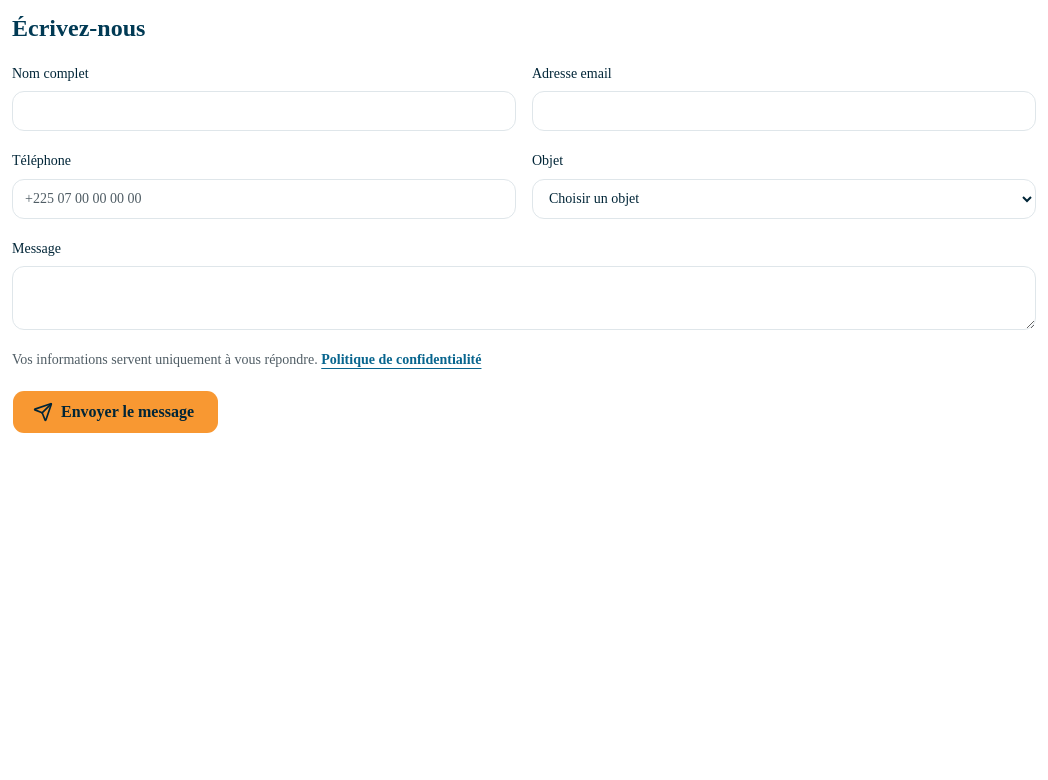
ContactForm › erreurs de Django affichées sous les champs
The width and height of the screenshot is (1048, 780).
Type "Awa Koné" into the field labelled "Nom complet" at (264, 111), box x1=12 y1=91 x2=516 y2=131
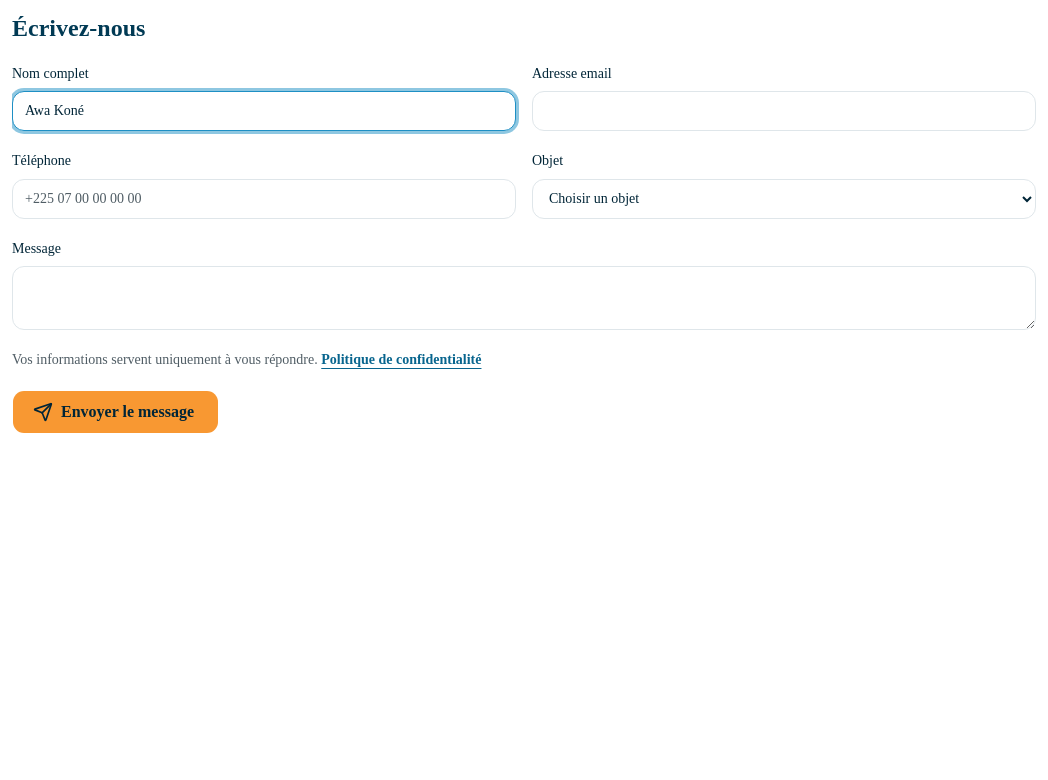
Type "awa@example.com" into the field labelled "Adresse email" at (784, 111), box x1=532 y1=91 x2=1036 y2=131
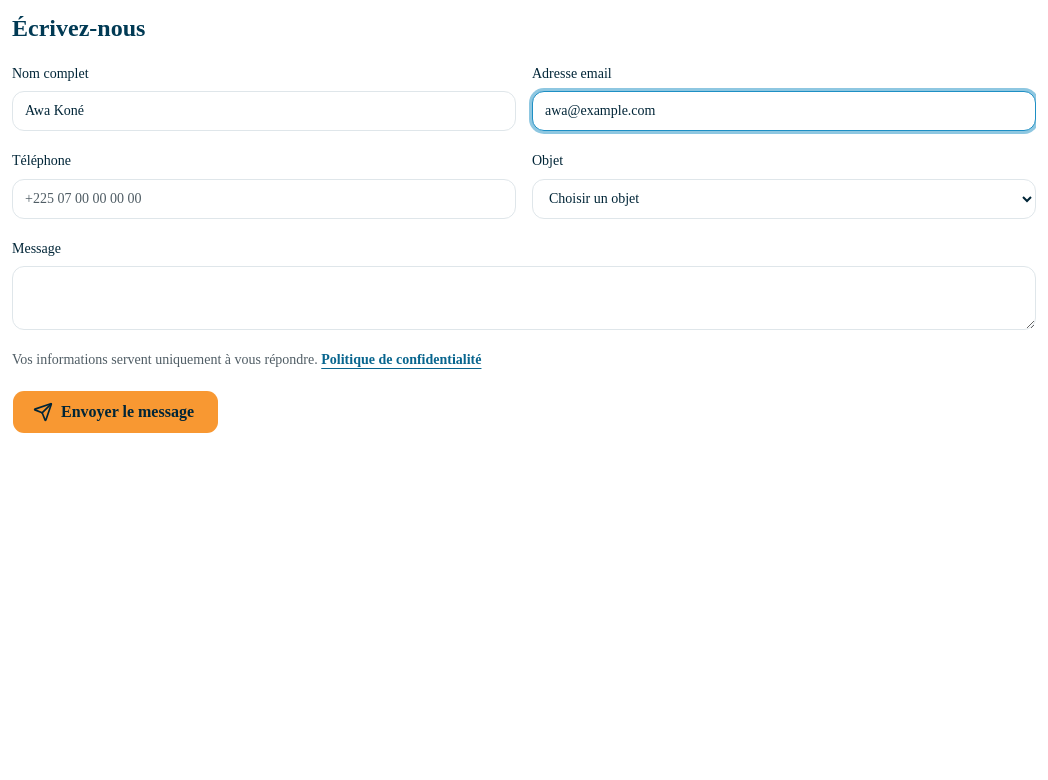
Select "Visa et formalités" in the dropdown labelled "Objet" at (784, 198), box x1=532 y1=178 x2=1036 y2=218
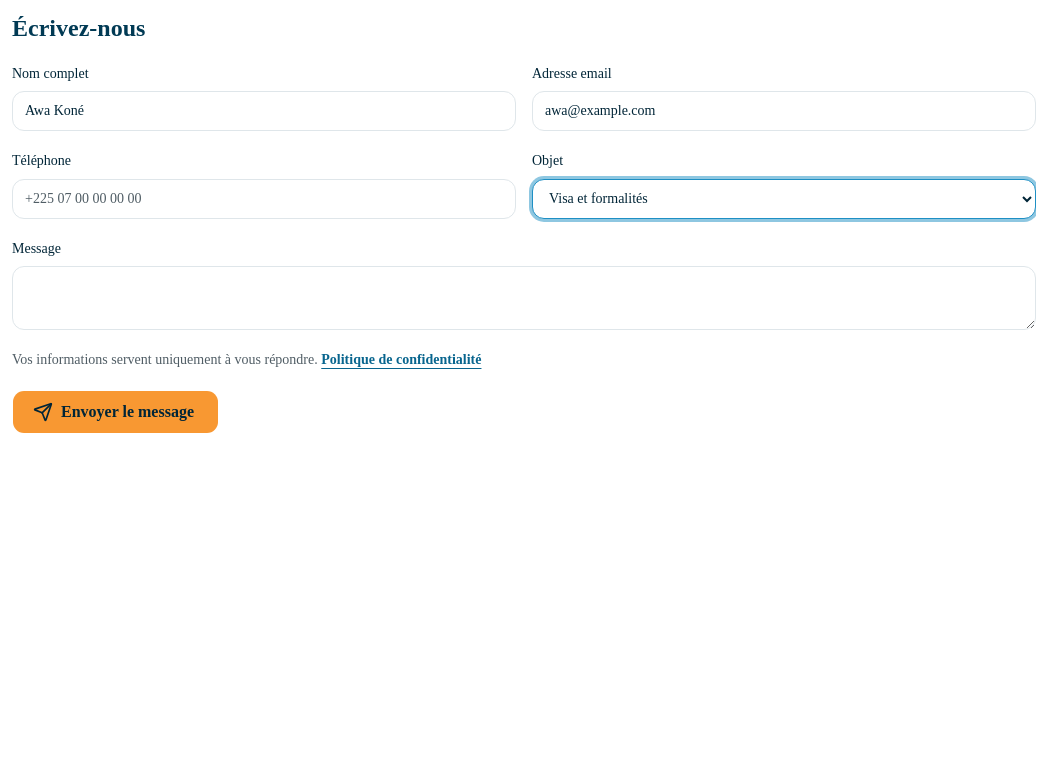
Type "Quels documents pour un visa Schengen ?" into the text box labelled "Message" at (524, 298), box x1=12 y1=266 x2=1036 y2=330
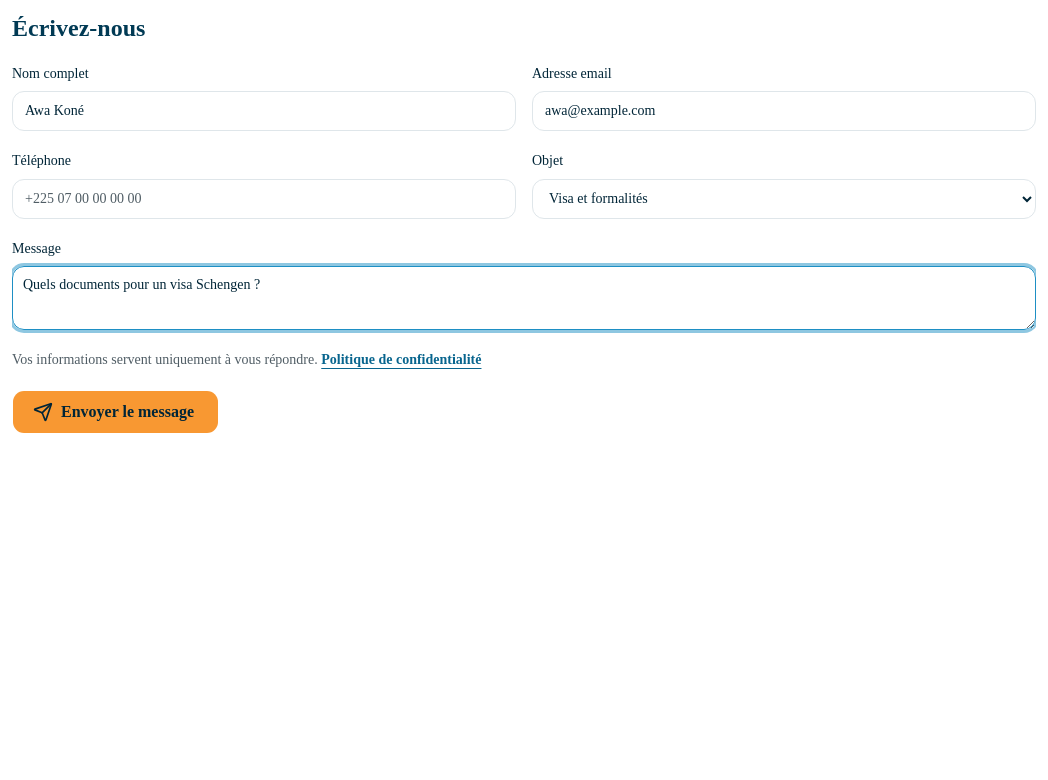
Click the button "Envoyer le message" at (116, 412), box x1=12 y1=390 x2=219 y2=434
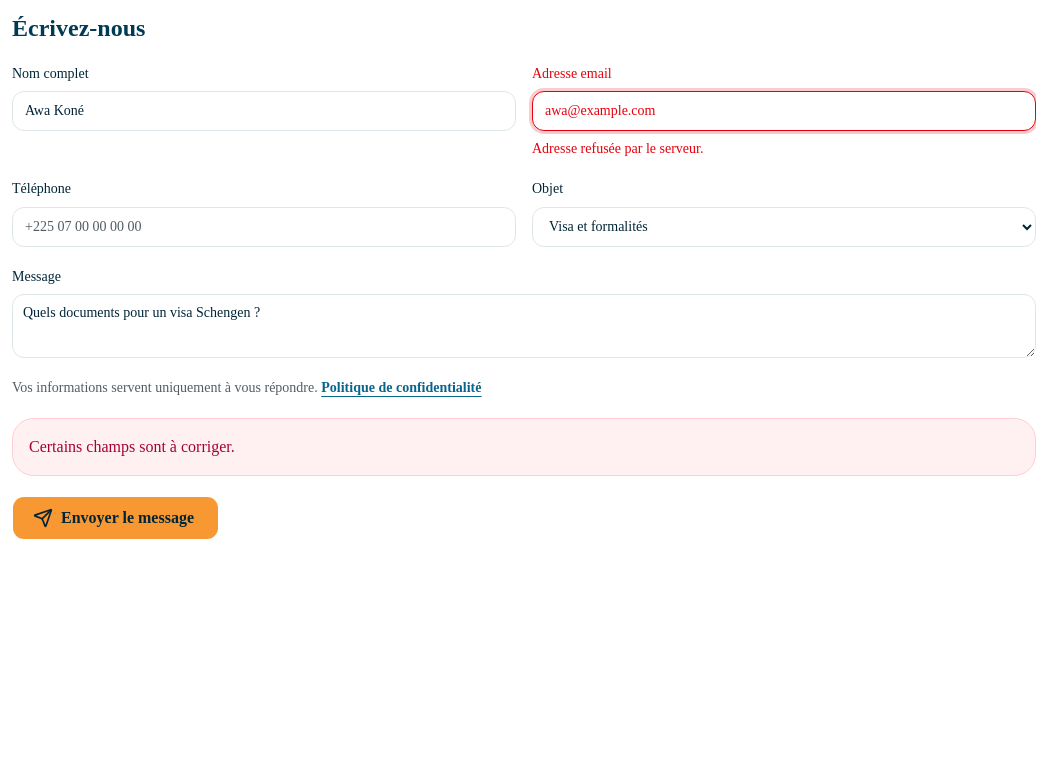
Result: the text "Adresse refusée par le serveur." is shown at x1=532 y1=141 x2=703 y2=156
Result: the text "Certains champs sont à corriger." is shown at x1=12 y1=418 x2=1036 y2=476
